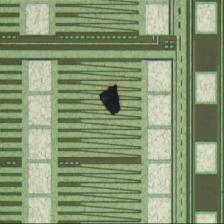PARTICLE: (99, 84, 125, 118)
